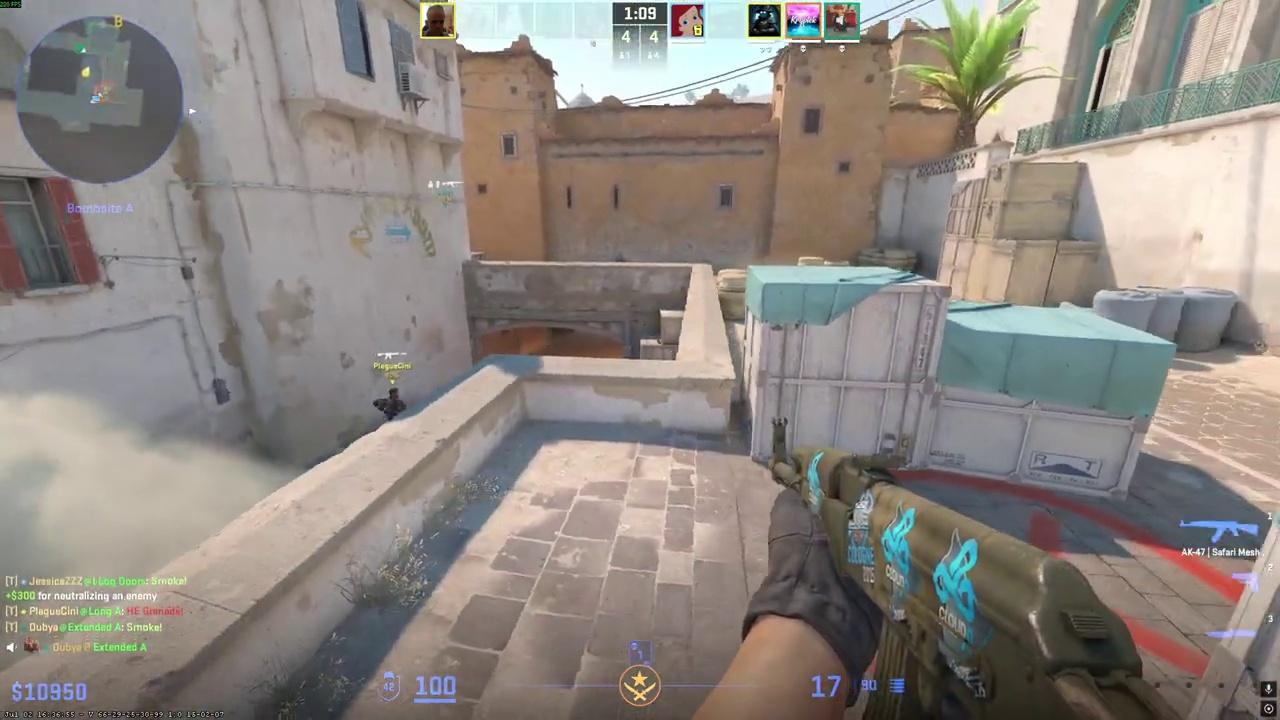Terrorist: (378, 387, 405, 421)
